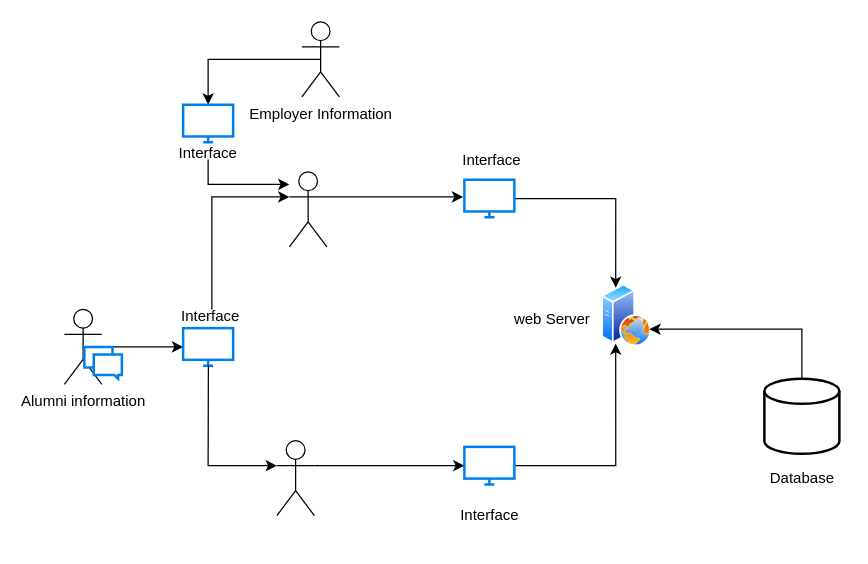
Image size: 868x564. Some labels were removed from this diagram. The centre of each missing label's shape, as x and y in pixels:
Admin: (x=307, y=209)
School Personnel: (x=295, y=477)
